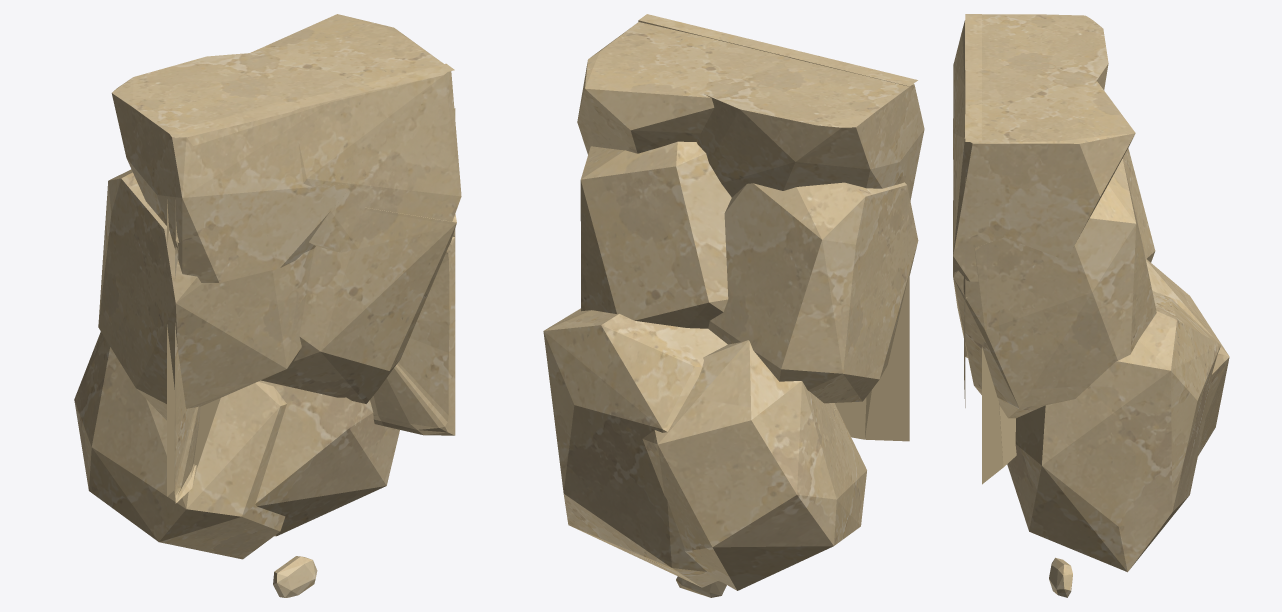
Rendered from ground_bottom_edge_10.glb.
3 renders of one model, left to right at view 1: azimuth 30°, elevation 25°; view 2: azimuth 150°, elevation 25°; view 3: azimuth 270°, elevation 25°, orthographic. The views are drawn at different scales.
Visible parts, largest first — view 1: GroundBottomEdge10_Body; view 2: GroundBottomEdge10_Body; view 3: GroundBottomEdge10_Body.
Part boxes in pixels (x1,y1,x2,y2): GroundBottomEdge10_Body: [74, 14, 461, 597]; GroundBottomEdge10_Body: [543, 14, 924, 597]; GroundBottomEdge10_Body: [953, 14, 1229, 597].
Bounding box in the file's own units: 1 × 1.83 × 1.04.
Materials: 6 (5 with a texture image).
